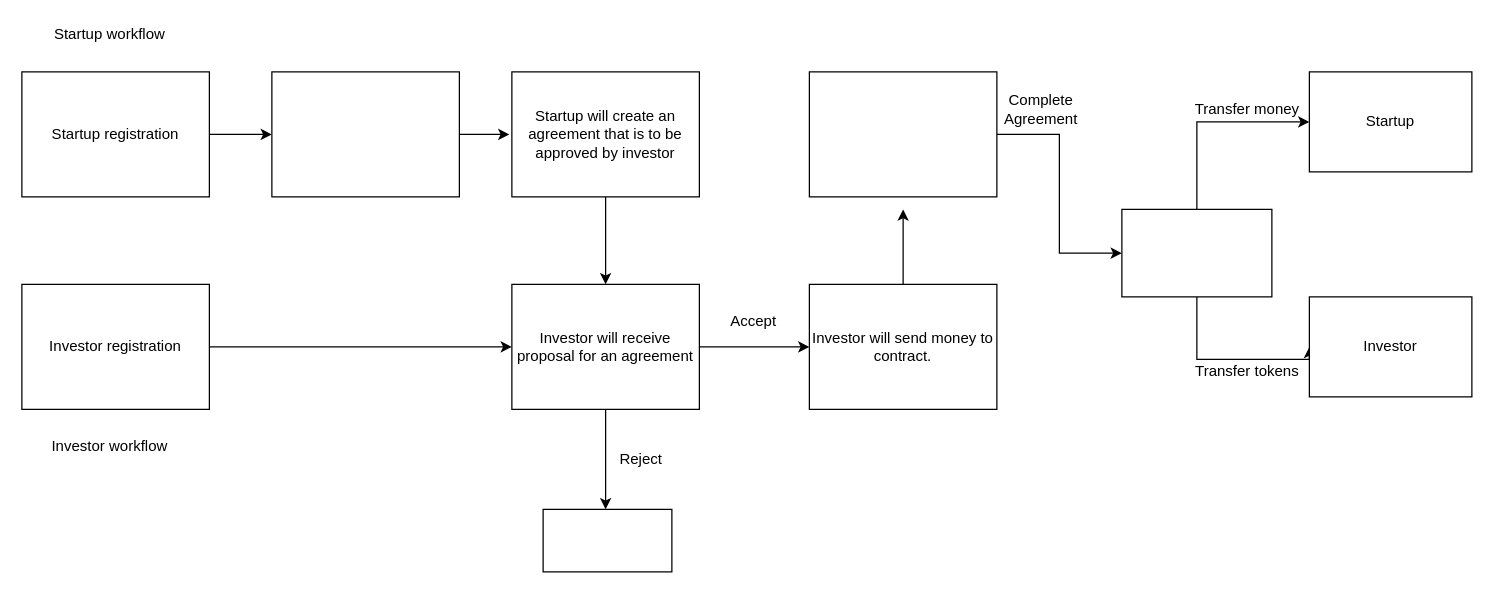
The diagram is 1494 pixels wide and 594 high, and some of its shapes have lost their labels. The shapes that lost their labels are listed below. From the top down, each one's centre as x and y in pixels, then its label:
At (365,134): "Startup will generate token".
At (902,134): "Startup finalizes agreements and sends tokens to contract.".
At (1196,252): "Contract sends money and tokens".
At (607,540): "Proposal for agreement rejected".
